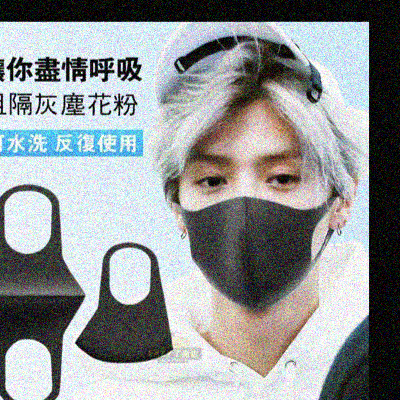with_mask: (176, 143, 330, 312)
